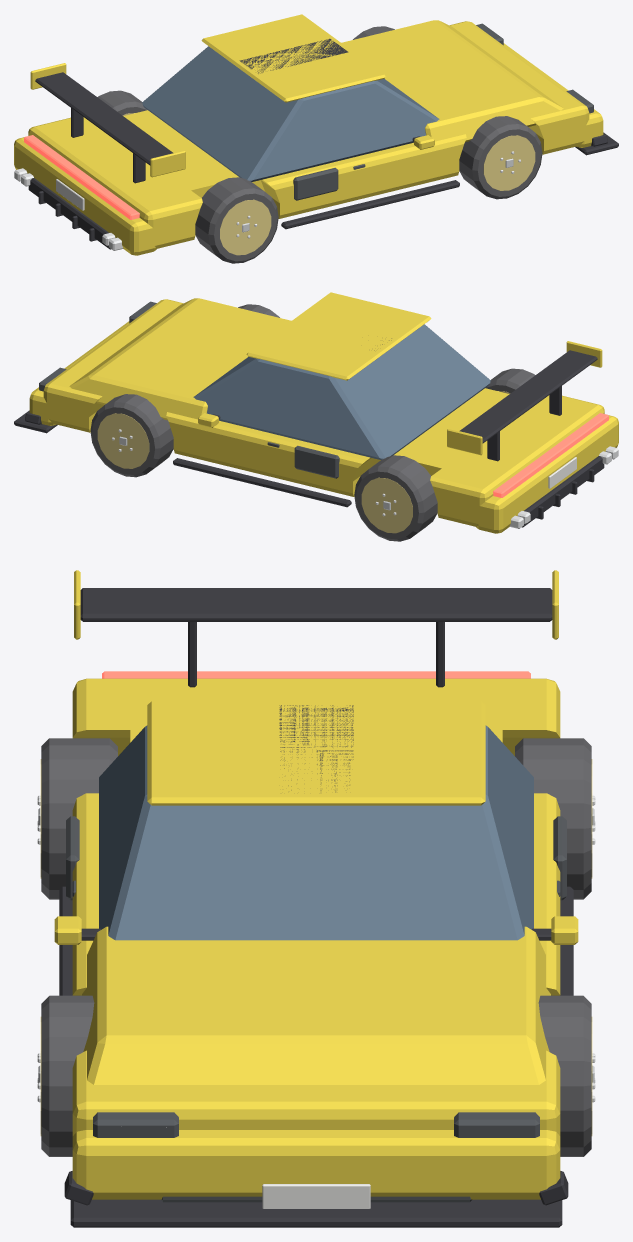
File: SportsCar.glb
The picture shows the model from 3 angles, top to bottom: view 1: azimuth 30°, elevation 25°; view 2: azimuth 150°, elevation 25°; view 3: azimuth 270°, elevation 25°; orthographic projection. The views are drawn at different scales.
Parts seen in each view (by area): view 1: SportsCar_Body, SportsCar_Wheel_RR, SportsCar_Wheel_FR, SportsCar_Wheel_RL; view 2: SportsCar_Body, SportsCar_Wheel_RL, SportsCar_Wheel_FL, SportsCar_Wheel_RR; view 3: SportsCar_Body, SportsCar_Wheel_RL, SportsCar_Wheel_RR, SportsCar_Wheel_FL, SportsCar_Wheel_FR.
Boxes of the visible parts, <box> form: SportsCar_Body: <box>14,14,618,255</box>; SportsCar_Wheel_RR: <box>195,177,278,263</box>; SportsCar_Wheel_FR: <box>459,116,542,199</box>; SportsCar_Wheel_RL: <box>97,90,147,115</box>; SportsCar_Body: <box>14,292,618,533</box>; SportsCar_Wheel_RL: <box>354,455,437,541</box>; SportsCar_Wheel_FL: <box>90,394,173,477</box>; SportsCar_Wheel_RR: <box>485,368,535,393</box>; SportsCar_Body: <box>54,570,578,1227</box>; SportsCar_Wheel_RL: <box>515,738,595,899</box>; SportsCar_Wheel_RR: <box>37,738,117,899</box>; SportsCar_Wheel_FL: <box>538,995,595,1156</box>; SportsCar_Wheel_FR: <box>37,995,94,1156</box>.
Bounding box in the file's own units: 5.07 × 1.26 × 2.47.
